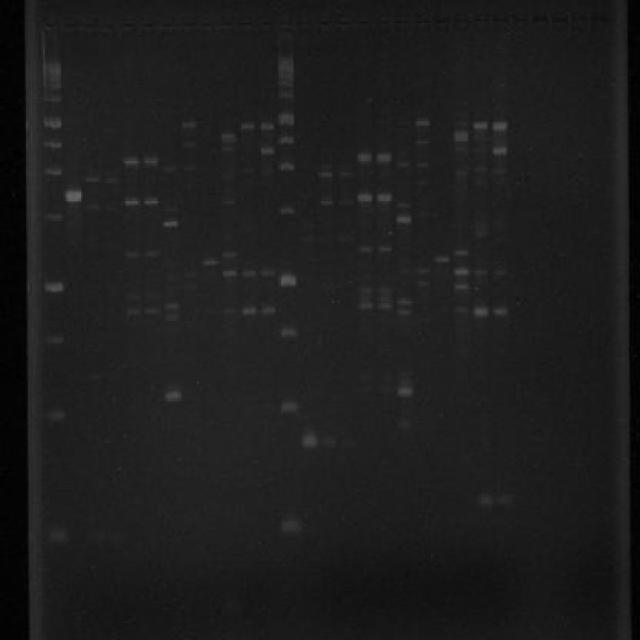B: (300, 432, 320, 450), (320, 432, 340, 450), (497, 492, 517, 508), (474, 494, 496, 508), (64, 188, 84, 203), (394, 384, 414, 399), (164, 388, 182, 403), (490, 119, 510, 132), (452, 128, 470, 142), (356, 152, 374, 166), (472, 118, 490, 131), (336, 195, 354, 208), (396, 199, 414, 212), (202, 255, 220, 268), (452, 265, 470, 278), (163, 300, 182, 312), (163, 310, 182, 322), (376, 152, 392, 166), (356, 192, 373, 205), (316, 196, 336, 207), (490, 307, 510, 318), (180, 118, 198, 130), (258, 120, 276, 132), (395, 158, 413, 170), (84, 200, 102, 212), (395, 214, 413, 226), (103, 173, 122, 184), (123, 249, 142, 260), (125, 306, 144, 317), (144, 304, 161, 316), (414, 117, 432, 128), (142, 156, 160, 167), (490, 166, 508, 177), (452, 247, 470, 258), (220, 306, 238, 317), (377, 191, 392, 204), (492, 144, 508, 156), (218, 132, 237, 142), (414, 159, 431, 170), (85, 173, 102, 184), (124, 196, 141, 207), (143, 249, 160, 260), (473, 267, 490, 278), (472, 144, 490, 154), (258, 146, 276, 156), (414, 266, 432, 276), (452, 282, 470, 292), (396, 308, 414, 318), (416, 279, 432, 290), (473, 307, 489, 318), (434, 254, 451, 264), (454, 306, 471, 316), (259, 306, 276, 316), (377, 243, 392, 254), (414, 138, 432, 147), (180, 140, 198, 149), (122, 157, 140, 166), (472, 230, 490, 239), (490, 268, 508, 277), (222, 268, 238, 278), (358, 286, 374, 296), (242, 306, 258, 316), (337, 170, 354, 179), (317, 171, 334, 180), (143, 197, 160, 206), (220, 197, 237, 206), (239, 270, 258, 278), (238, 122, 256, 130), (473, 164, 489, 173), (357, 246, 375, 254), (220, 250, 238, 258), (396, 297, 412, 306), (377, 294, 392, 303), (259, 270, 275, 278), (358, 302, 374, 310), (162, 164, 176, 173), (377, 286, 392, 294), (164, 220, 178, 228), (378, 302, 392, 310)
L: (34, 3, 616, 40)
M: (34, 40, 74, 552), (272, 40, 305, 546)
P: (276, 515, 302, 537), (40, 526, 69, 545), (39, 112, 64, 130), (42, 406, 68, 422), (276, 272, 299, 290), (277, 51, 294, 74), (42, 279, 66, 295), (41, 135, 64, 151), (276, 324, 299, 340), (43, 332, 65, 348), (40, 60, 62, 76), (276, 400, 299, 414), (42, 209, 64, 223), (42, 163, 64, 177), (278, 110, 294, 128), (277, 205, 297, 218), (278, 132, 294, 146), (42, 93, 62, 104), (276, 162, 296, 172), (278, 90, 294, 101), (42, 82, 62, 90), (278, 80, 294, 88), (42, 76, 62, 82), (278, 73, 294, 79)
Pc: (550, 12, 572, 30), (158, 13, 178, 32), (589, 11, 611, 27), (432, 12, 454, 28), (530, 12, 550, 28), (40, 17, 58, 34), (138, 15, 156, 32), (356, 13, 374, 30), (315, 14, 334, 30), (256, 15, 276, 30), (61, 15, 78, 32), (79, 16, 96, 33), (572, 11, 590, 27), (237, 15, 256, 30), (180, 14, 194, 34), (492, 13, 512, 27), (472, 14, 492, 28), (452, 14, 472, 28), (98, 18, 115, 34), (277, 14, 294, 30), (512, 14, 531, 28), (218, 16, 234, 32), (120, 17, 137, 32), (394, 14, 412, 28), (337, 14, 352, 30), (200, 16, 214, 32), (296, 14, 312, 28), (416, 13, 432, 27), (376, 15, 390, 30)
